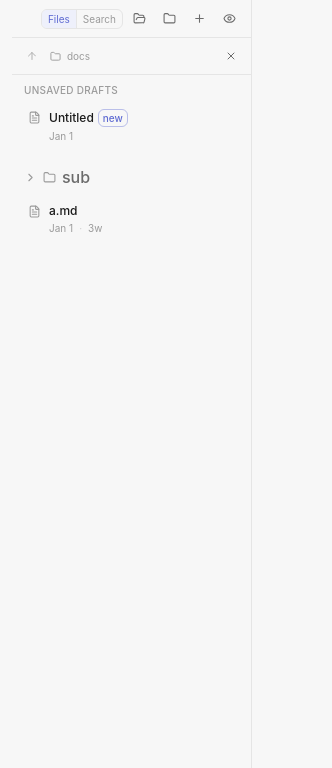
Scenario: Sidebar — interactions › expands and collapses a nested folder
What coordinates should you click on to do the following:
click the button "sub"
I would click on:
 (132, 177)
Its box is [12,159,251,195].
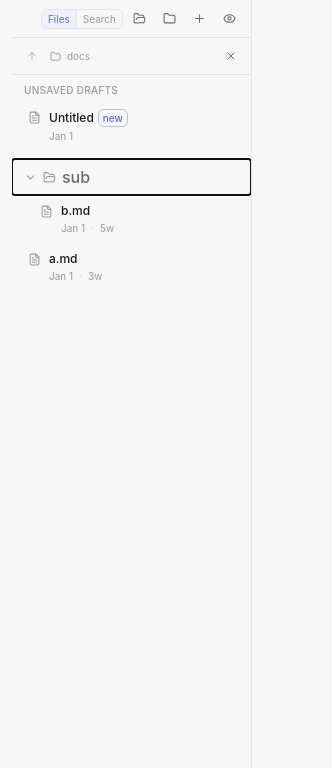
Expected: the text "b.md" is shown, [61,203,90,219]
What coordinates should you click on to do the following:
click the button "sub"
I would click on:
 (132, 177)
Its box is [12,159,251,195].
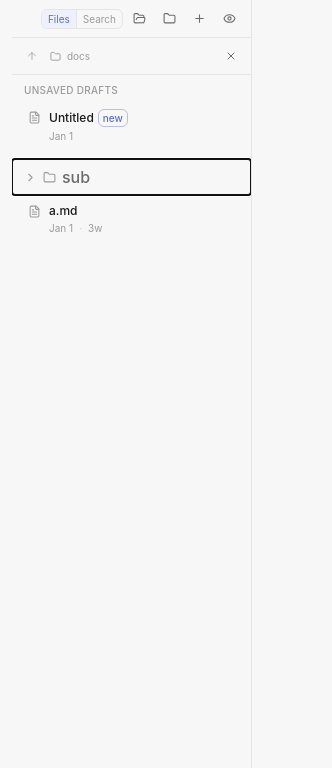
Expected: the text "b.md" is gone
